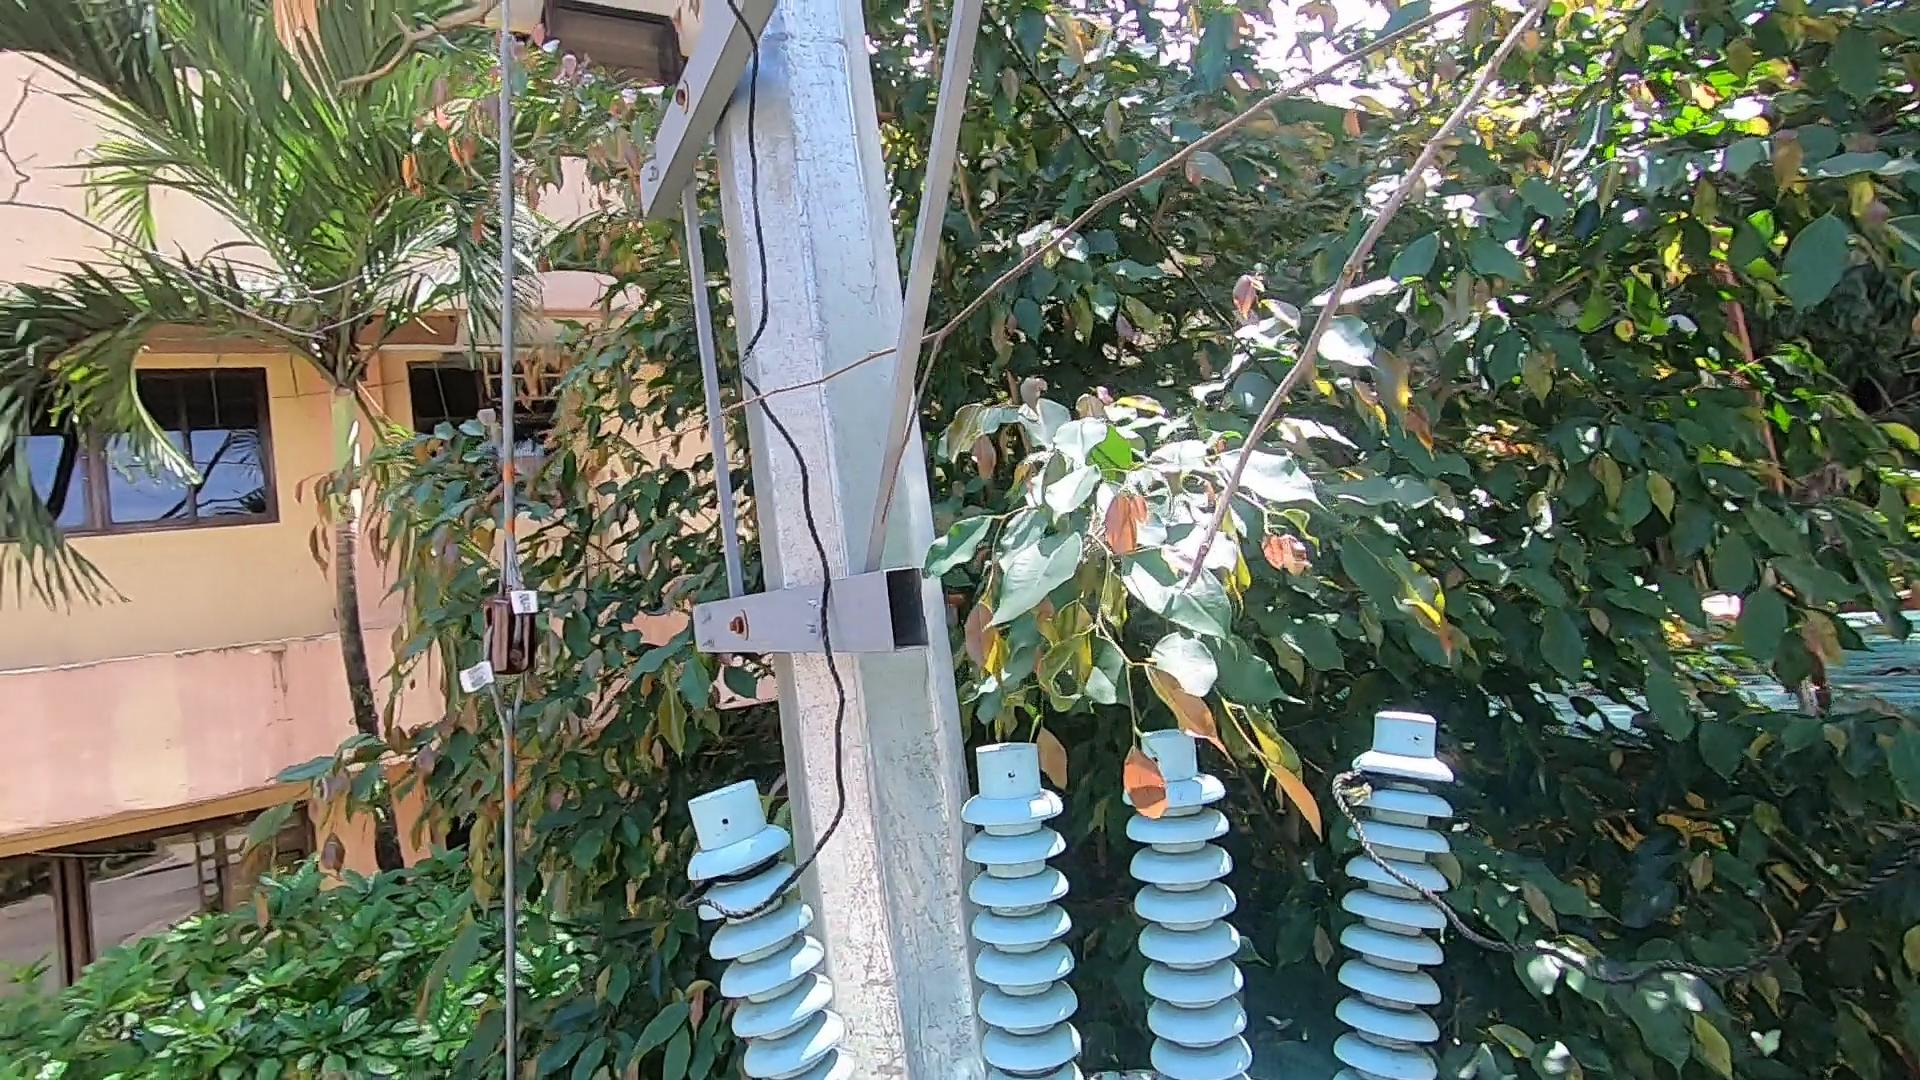branch with leaves: (1112, 682, 1352, 845)
tree branch: (418, 34, 1253, 480)
